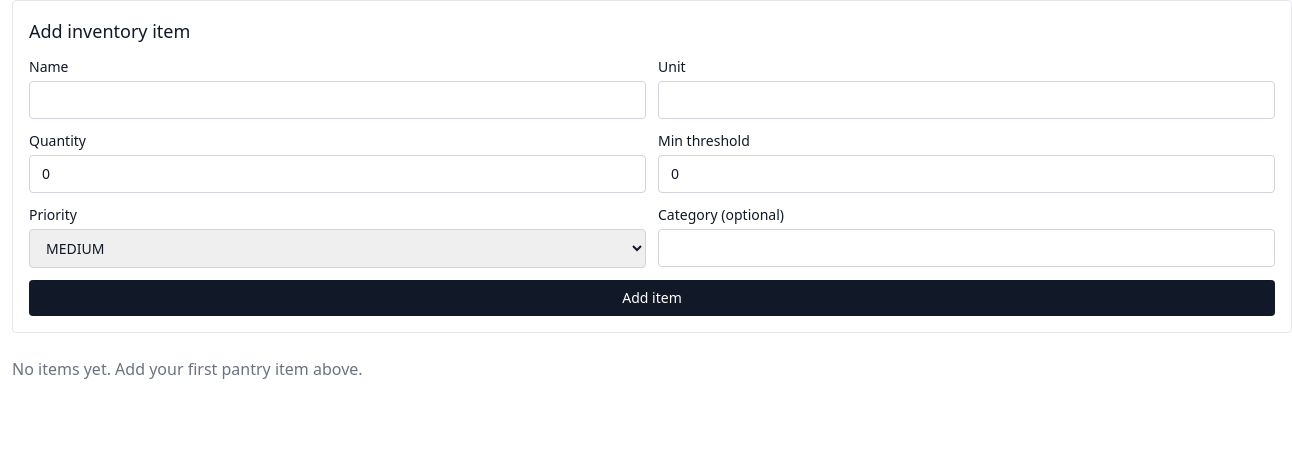
Test case: Inventory dashboard › shows an error when manual item creation fails
This screenshot has width=1292, height=458.
Type "Eggs" into the field labelled "Name" at (338, 100), box [29,81,646,119]
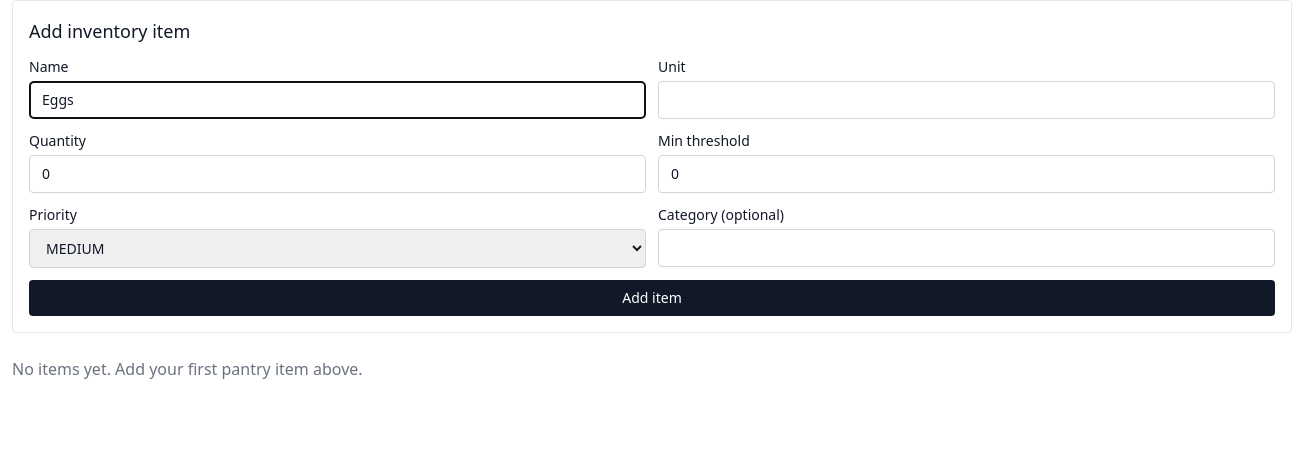
Type "pcs" into the field labelled "Unit" at (966, 100), box [658,81,1275,119]
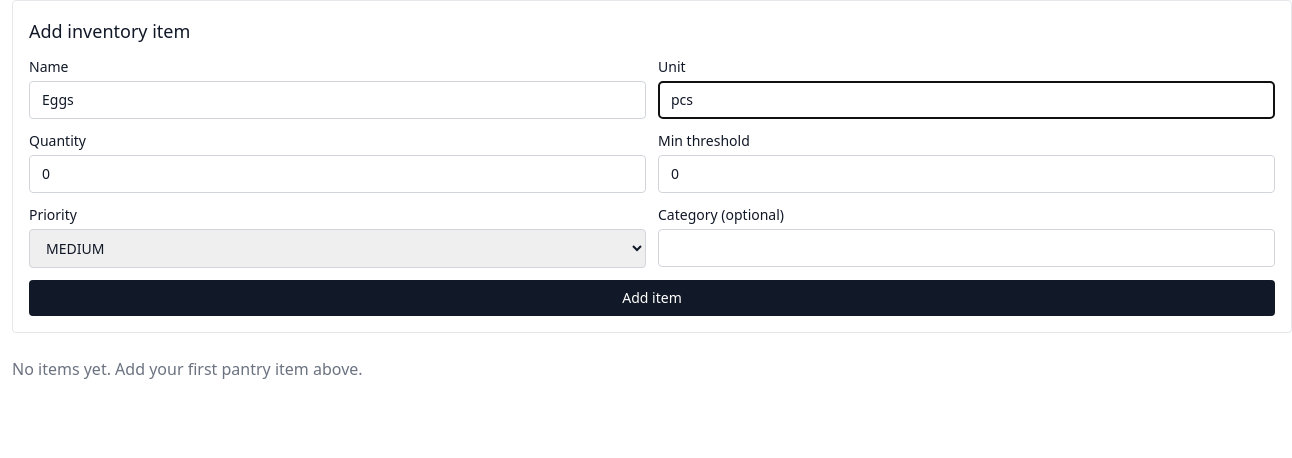
Click the button "Add item" at (652, 298), box [29,280,1275,316]
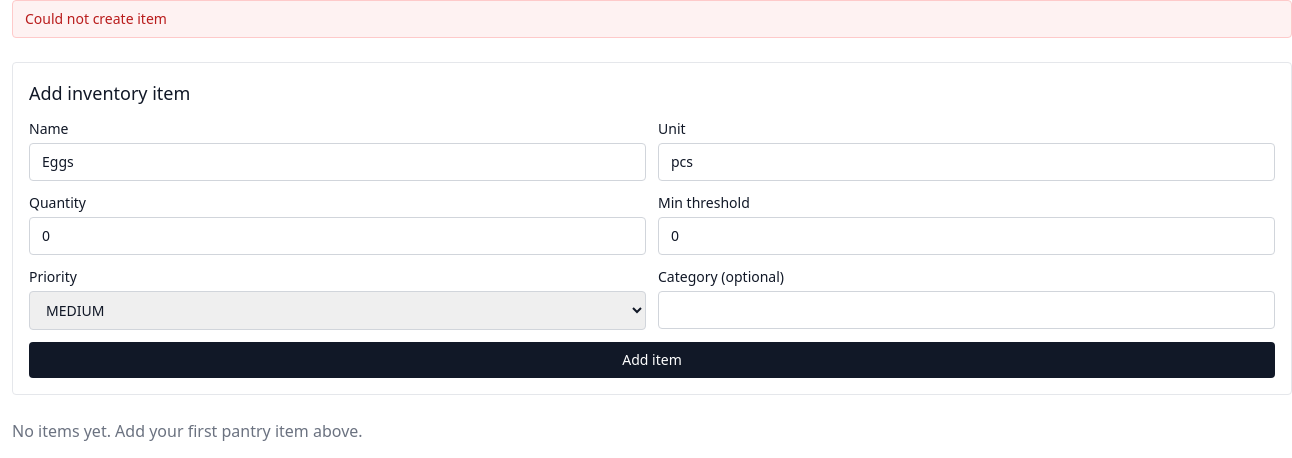
Now the message reads "Could not create item", box [25,9,167,28]
